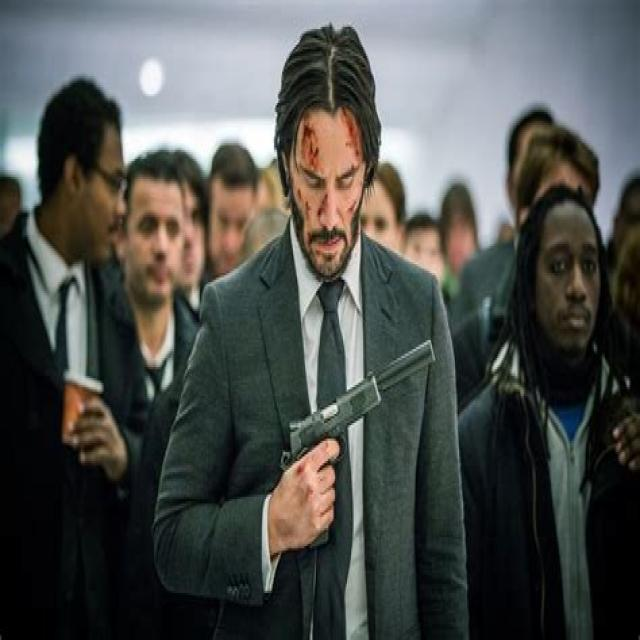weapons: (273, 318, 444, 556)
